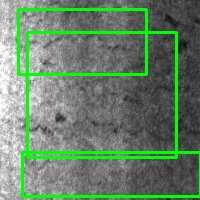crazing: (27, 32, 176, 157), (18, 9, 146, 74), (22, 152, 200, 196)
